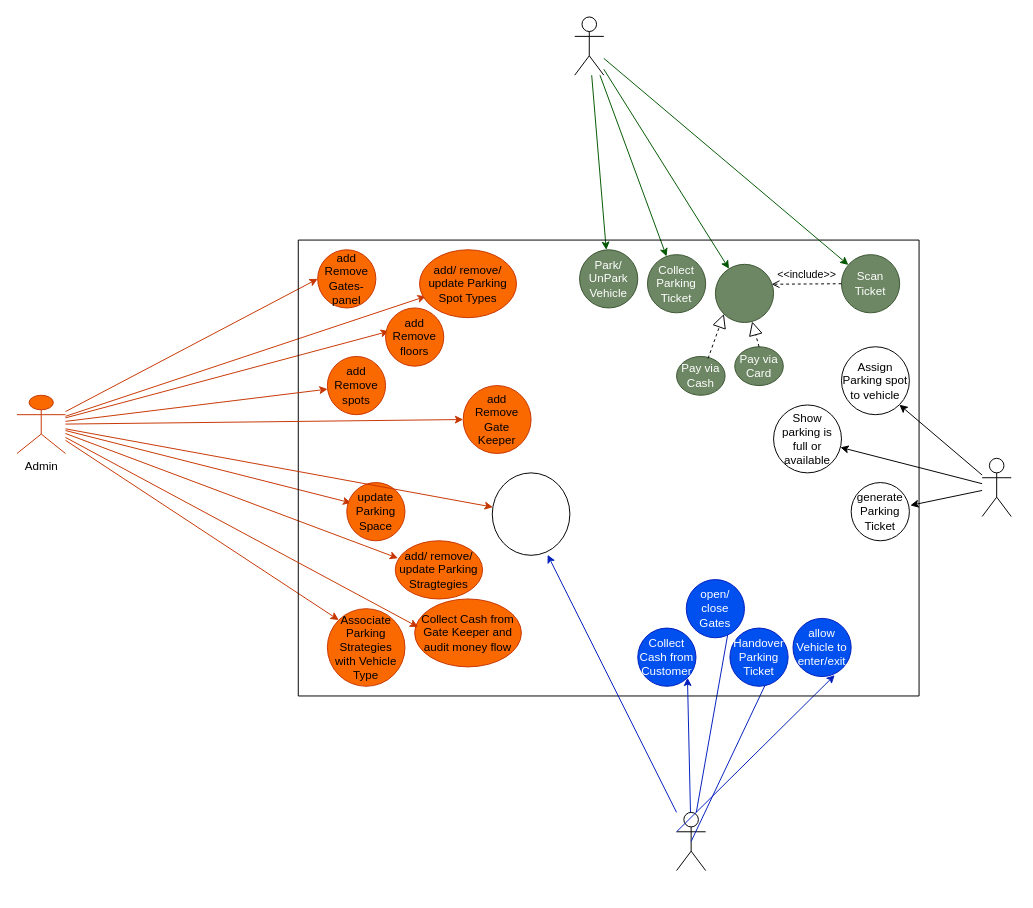
Some shapes in this 1033 by 908 pixel diagram are drawn without their labels. Here are the shapes that lost their labels. From the top down, the centre of each, then its label:
At (x=589, y=45): "Customer".
At (x=744, y=293): "Pay for parking Ticket".
At (x=996, y=487): "System".
At (x=530, y=513): "login-logout-View- update Account".
At (x=691, y=841): "Gate Keeper- parkingAgent".
